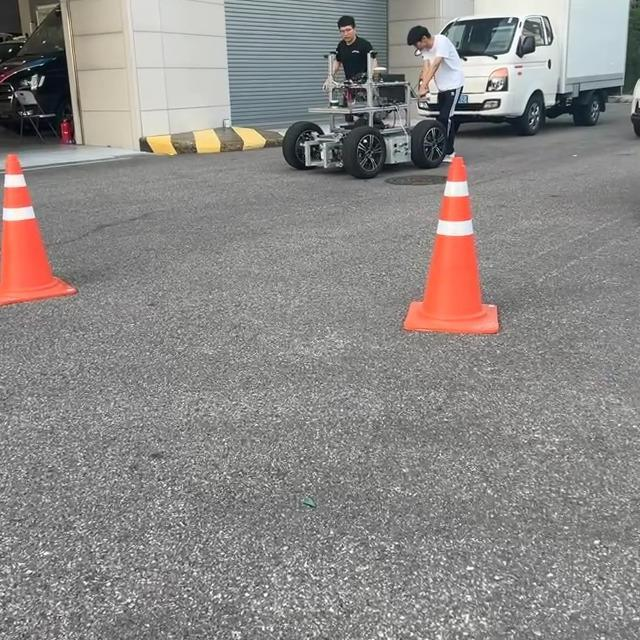fallen_object: (356, 143, 578, 355), (0, 120, 152, 335)
